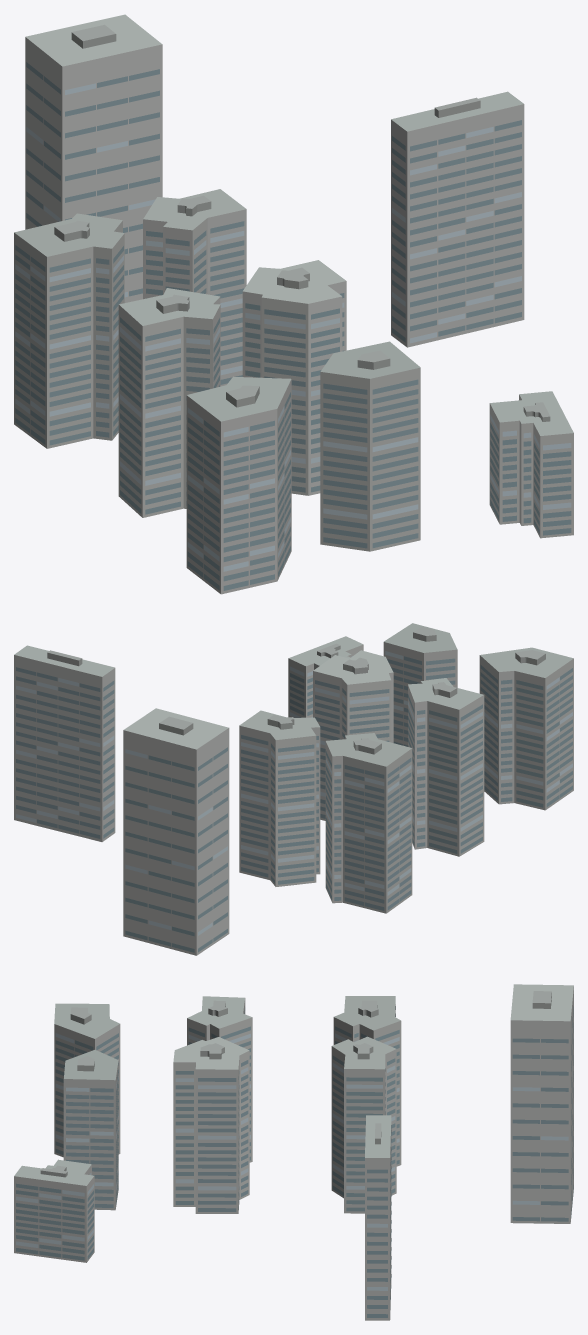
File: apt-a10025456.glb
3 renders of one model, top to bottom at view 1: azimuth 30°, elevation 25°; view 2: azimuth 150°, elevation 25°; view 3: azimuth 270°, elevation 25°, orthographic. The views are drawn at different scales.
Visible parts, largest first — view 1: apt-a10025456; view 2: apt-a10025456; view 3: apt-a10025456.
Boxes of the visible parts, x1,y1,x2,y2 form: apt-a10025456: (14, 14, 573, 594); apt-a10025456: (14, 623, 573, 955); apt-a10025456: (14, 984, 573, 1320).
Size of the model in its own units: 169 by 88 by 214.
